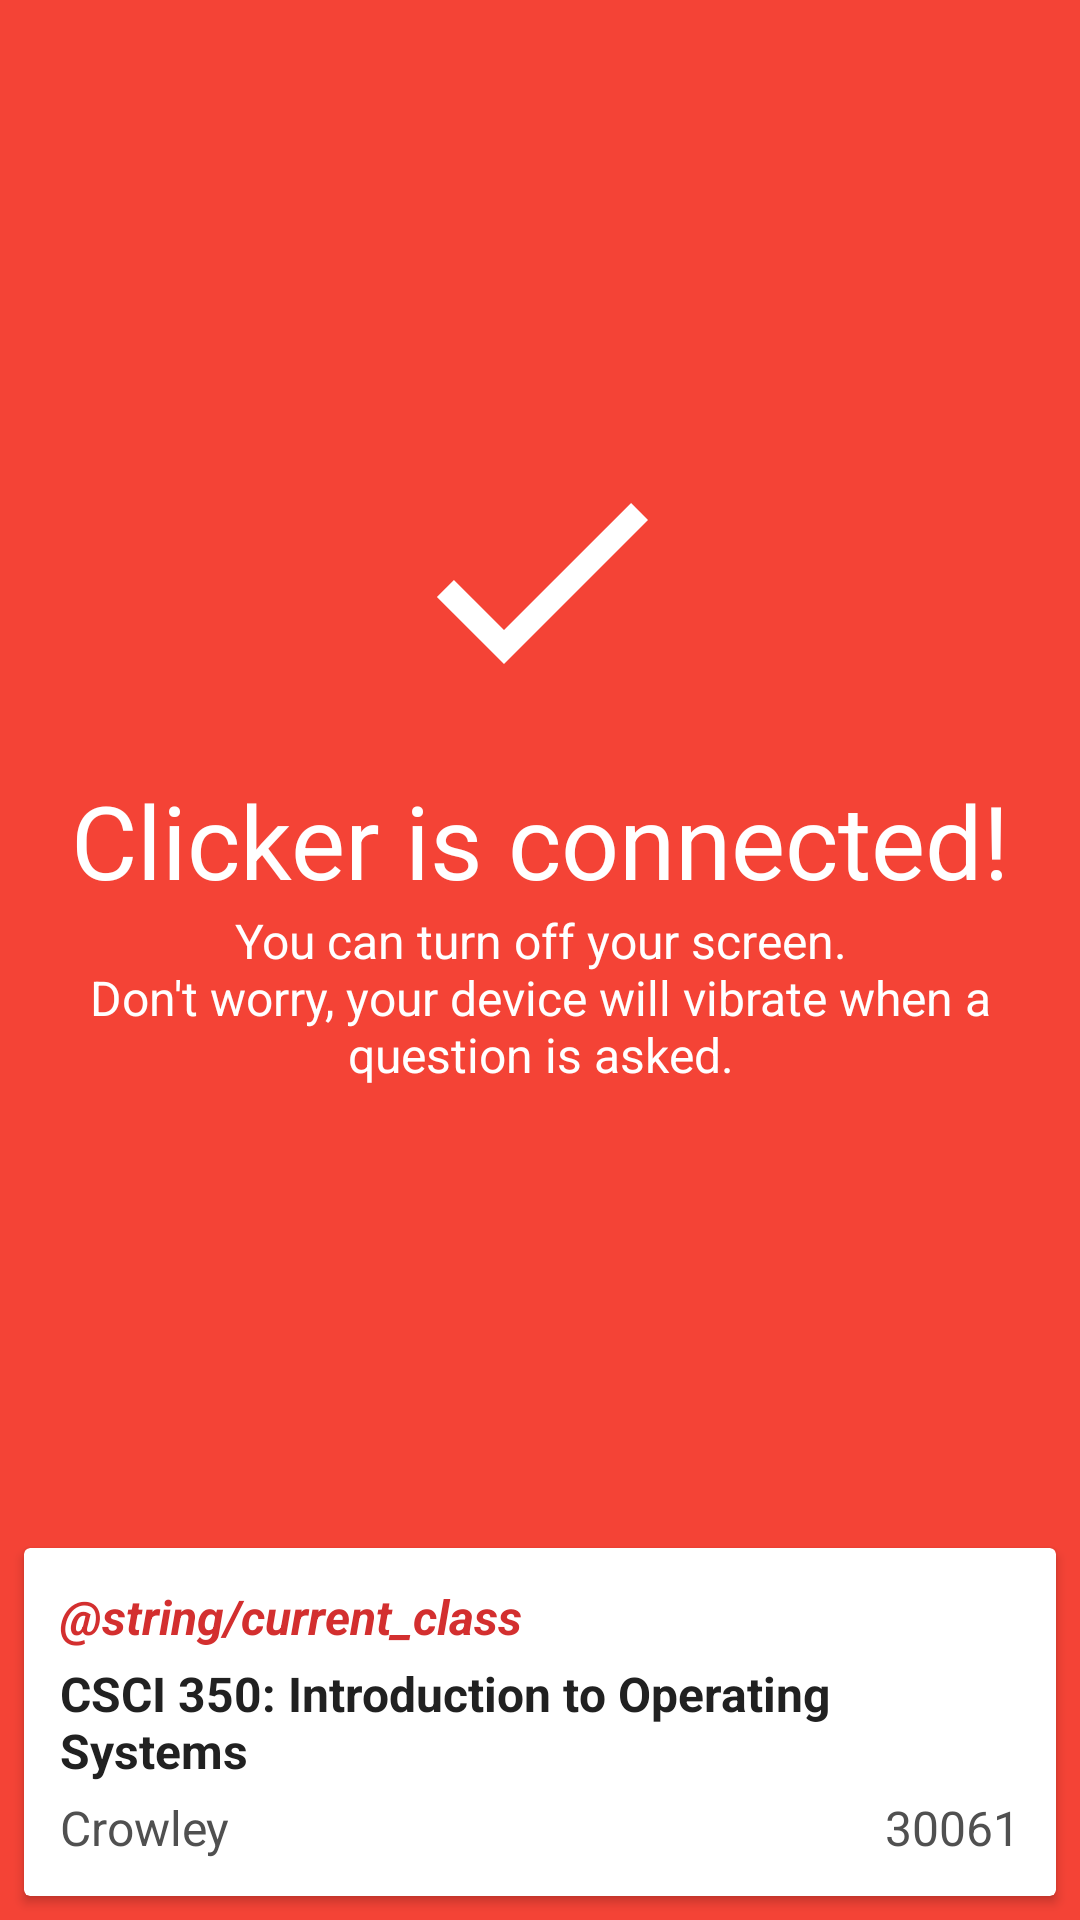

Icon click points for this 1080*1920 phone screenshot, format (x=x, y=y):
done: (x=542, y=583)
